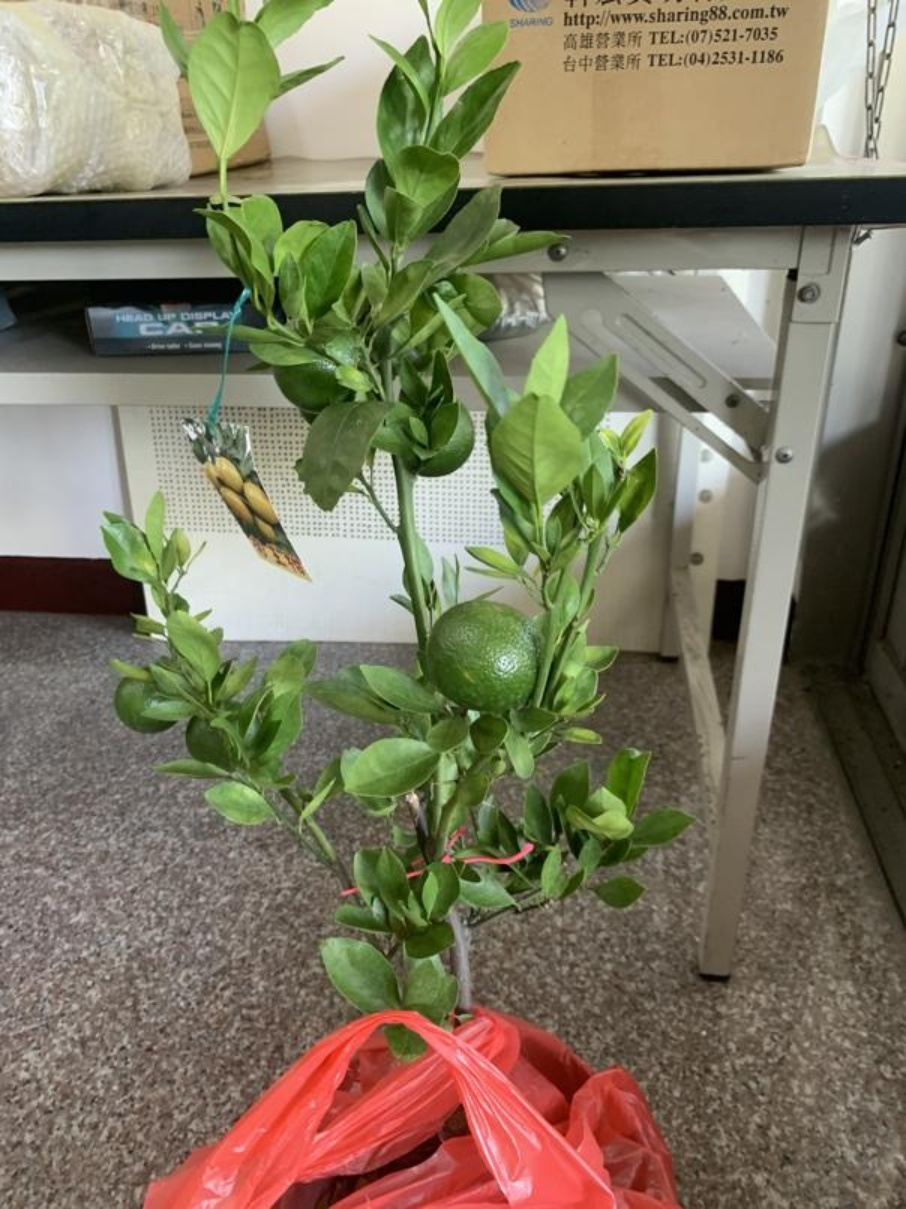Tangerine: (423, 591, 545, 715)
